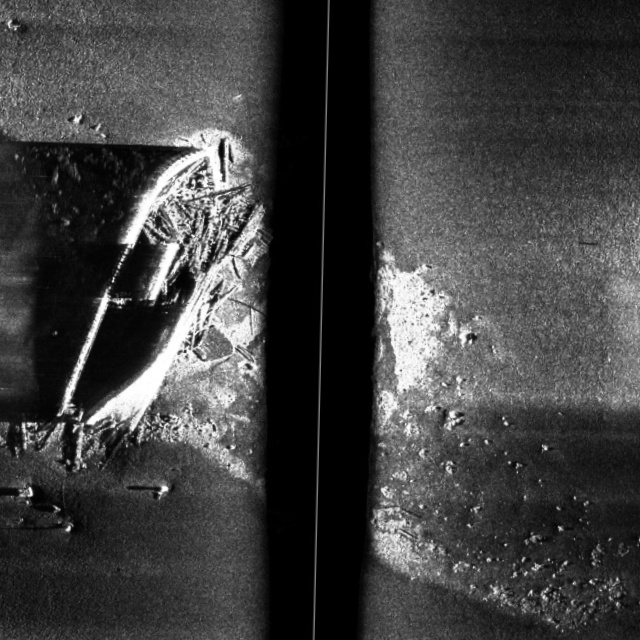Shipwreck: (0, 17, 434, 547)
